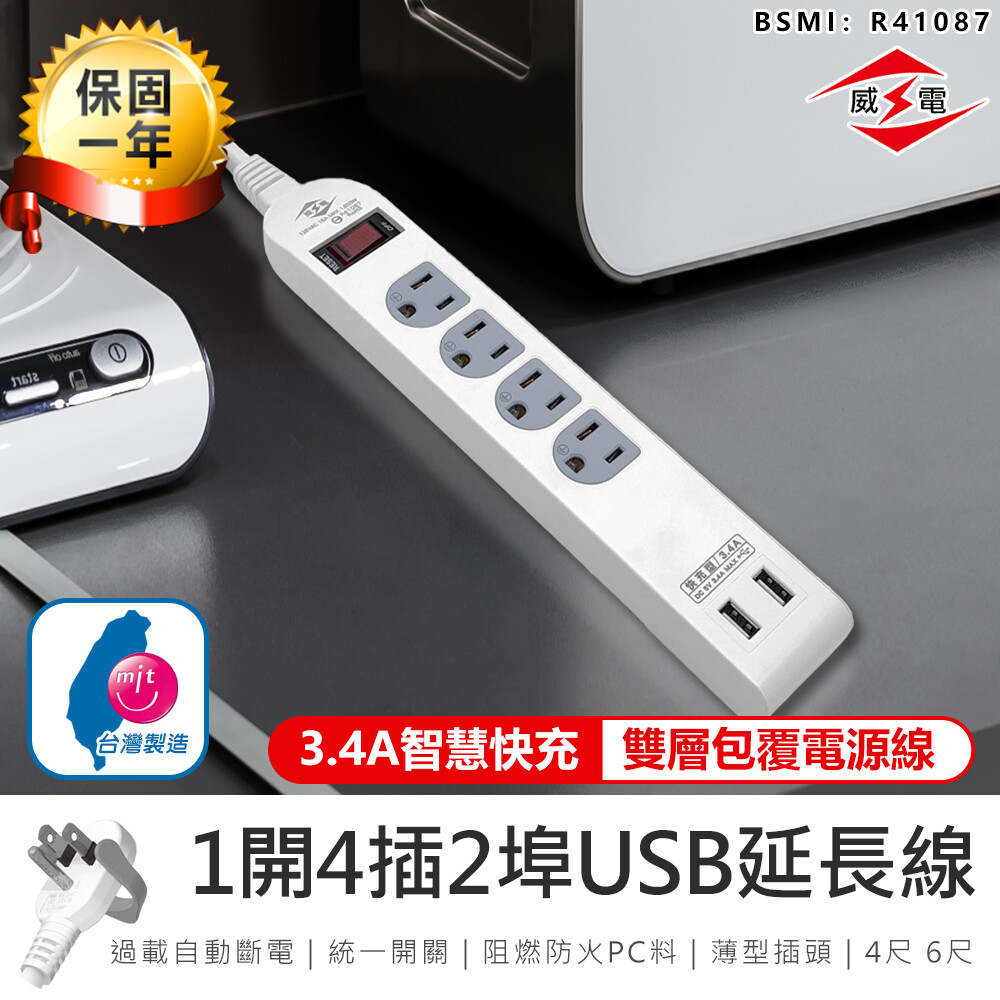socket: (231, 152, 857, 718)
